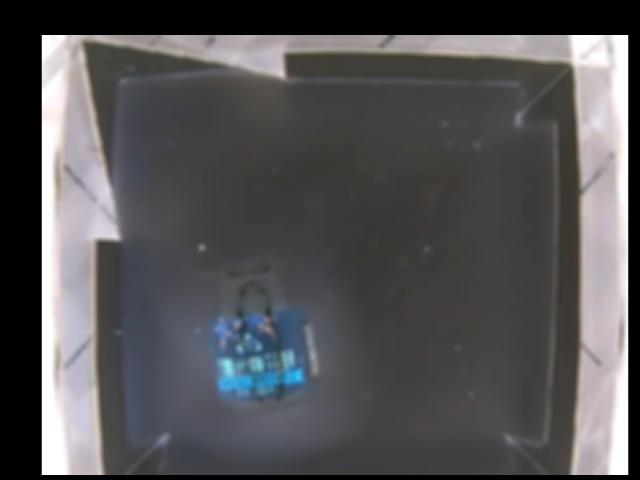Bottle: (209, 251, 319, 411)
